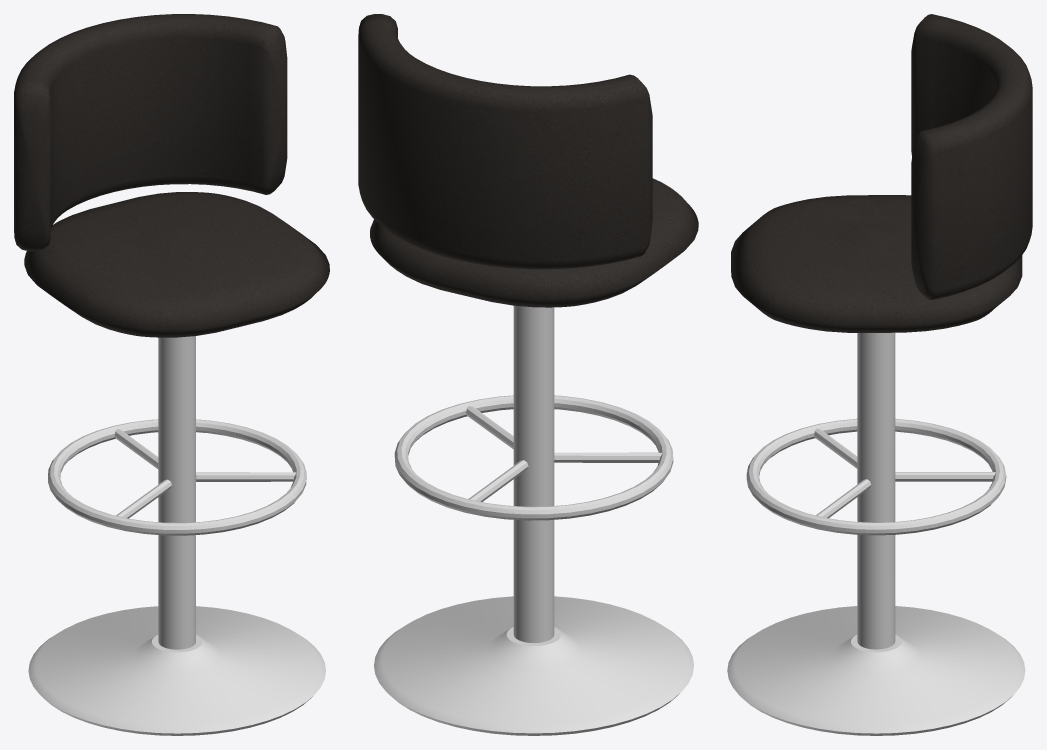
Rendered from taburete_giratorio_respaldo_65.glb.
3 renders of one model, left to right at view 1: azimuth 30°, elevation 25°; view 2: azimuth 150°, elevation 25°; view 3: azimuth 270°, elevation 25°, orthographic. The views are drawn at different scales.
Visible parts, largest first — view 1: taburete_giratorio_respaldo_65; view 2: taburete_giratorio_respaldo_65; view 3: taburete_giratorio_respaldo_65.
Part boxes in pixels (x1,y1,x2,y2): taburete_giratorio_respaldo_65: [14, 14, 329, 735]; taburete_giratorio_respaldo_65: [358, 14, 698, 735]; taburete_giratorio_respaldo_65: [727, 14, 1032, 735].
Size of the model in its own units: 0.4286 by 0.91 by 0.4199.
2 materials, 1 textured.
